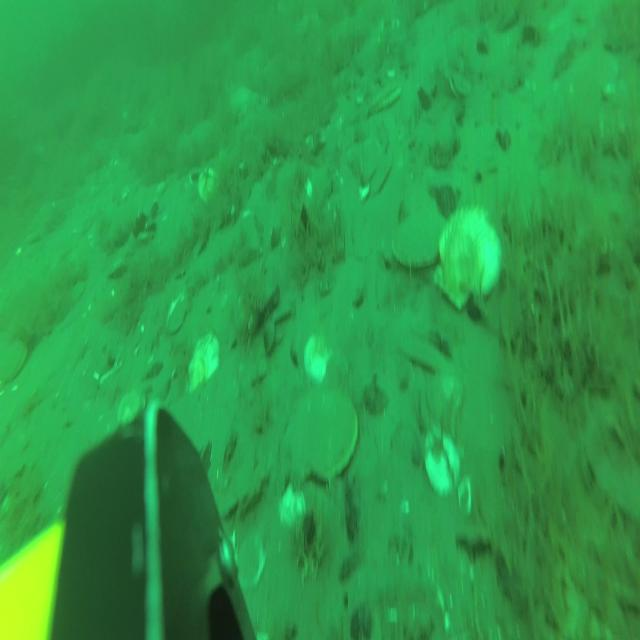scallop: (286, 389, 354, 484), (436, 205, 496, 306), (390, 215, 448, 264), (422, 432, 460, 493), (188, 334, 218, 392), (304, 331, 332, 382), (0, 335, 28, 386), (115, 389, 147, 423), (166, 287, 189, 332), (368, 149, 390, 196), (368, 79, 402, 109), (325, 348, 347, 391), (360, 133, 380, 180), (199, 164, 220, 205)
starfish: (228, 86, 260, 119), (294, 10, 320, 41)
